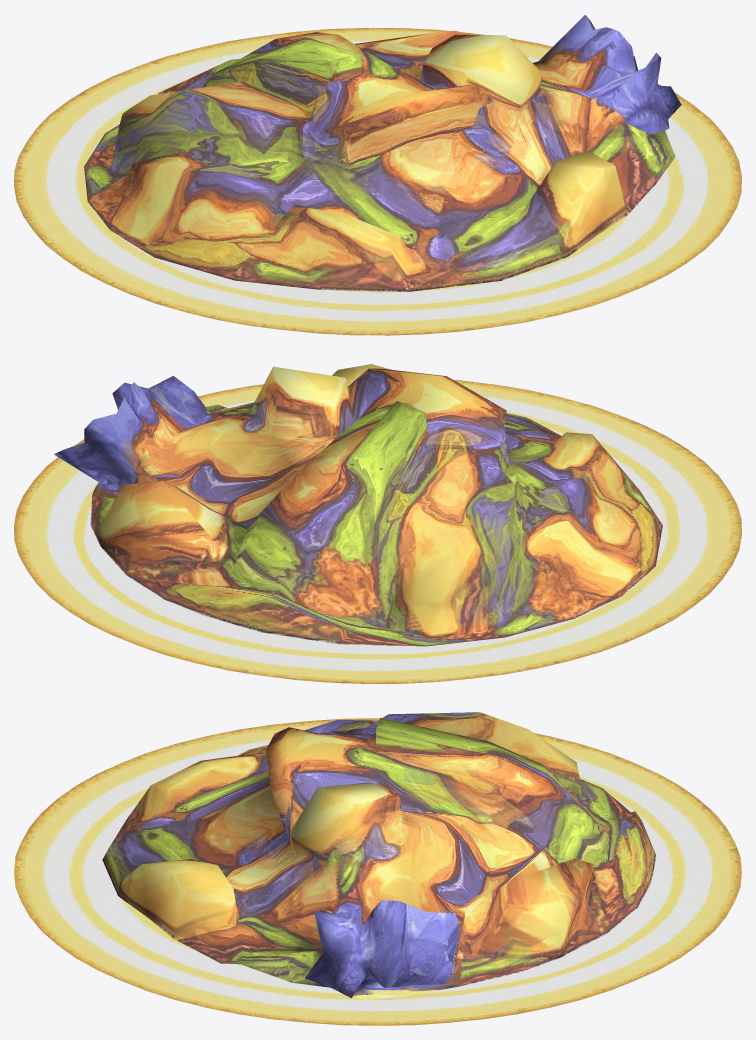
The model's file is vegetable01_M.FBX.
The picture shows the model from 3 angles, top to bottom: view 1: azimuth 30°, elevation 25°; view 2: azimuth 150°, elevation 25°; view 3: azimuth 270°, elevation 25°; orthographic projection.
Visible parts, largest first — view 1: tripo_node_96fe220f; view 2: tripo_node_96fe220f; view 3: tripo_node_96fe220f.
Boxes of the visible parts, box(x1,y1,x2,y2) form: tripo_node_96fe220f: box(14, 14, 741, 335); tripo_node_96fe220f: box(14, 364, 741, 683); tripo_node_96fe220f: box(14, 712, 741, 1025).
Size of the model in its own units: 0.998 by 0.2012 by 0.998.
